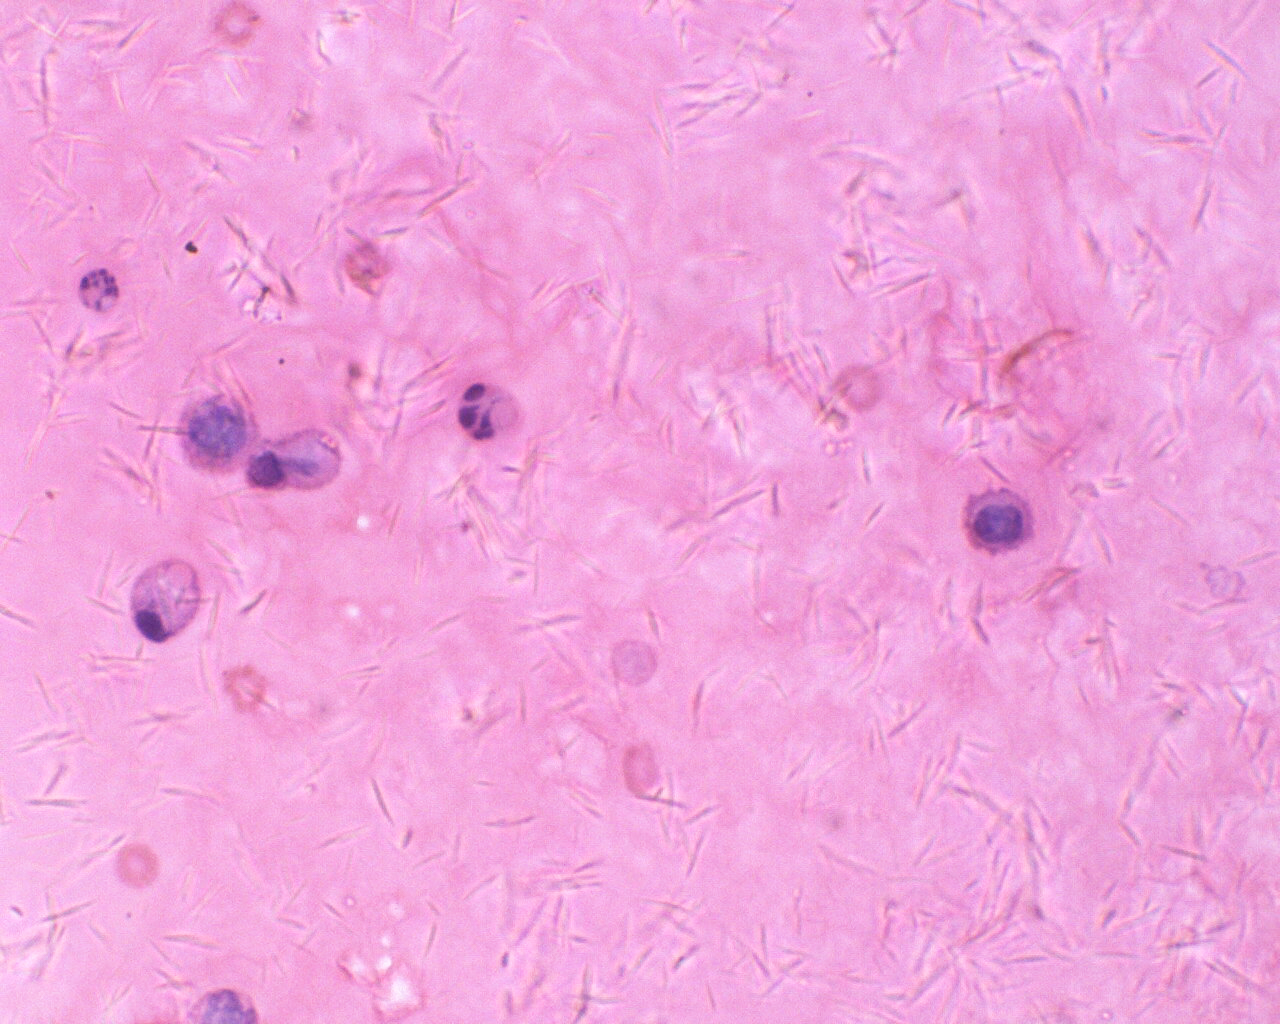ab: (961, 480, 1037, 561)
histo: (122, 554, 208, 644)
